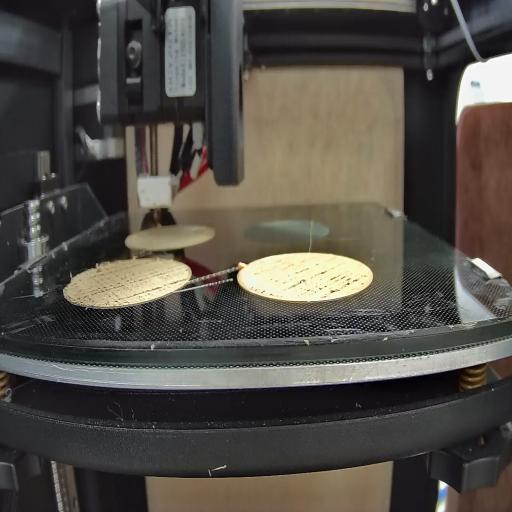under_extrusion: (76, 265, 188, 305), (251, 267, 367, 297)
